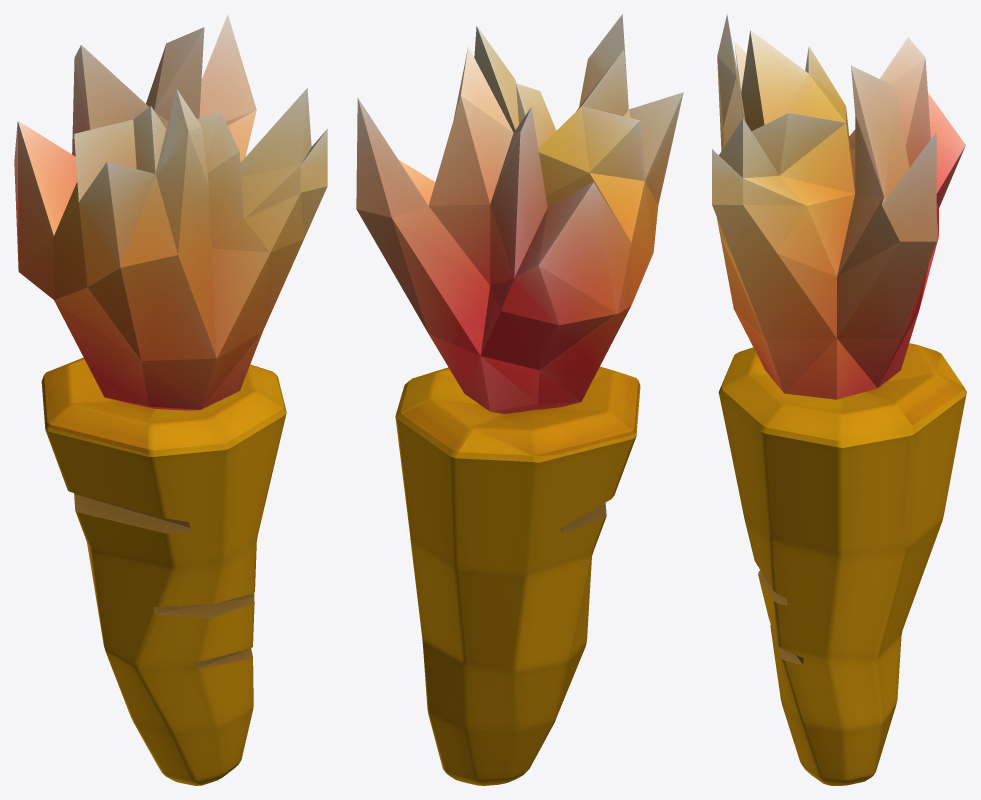
File: Torch.fbx
The picture shows the model from 3 angles, left to right: view 1: azimuth 30°, elevation 25°; view 2: azimuth 150°, elevation 25°; view 3: azimuth 270°, elevation 25°; orthographic projection. The views are drawn at different scales.
Visible parts, largest first — view 1: Stick; view 2: Stick; view 3: Stick.
Part boxes in pixels (box(x1,y1,x2,y2)): Stick: box(14, 14, 327, 785); Stick: box(356, 14, 683, 785); Stick: box(712, 14, 966, 785).
Bounding box in the file's own units: 31.86 × 96.66 × 30.68.
Materials: 1 (1 with a texture image).
